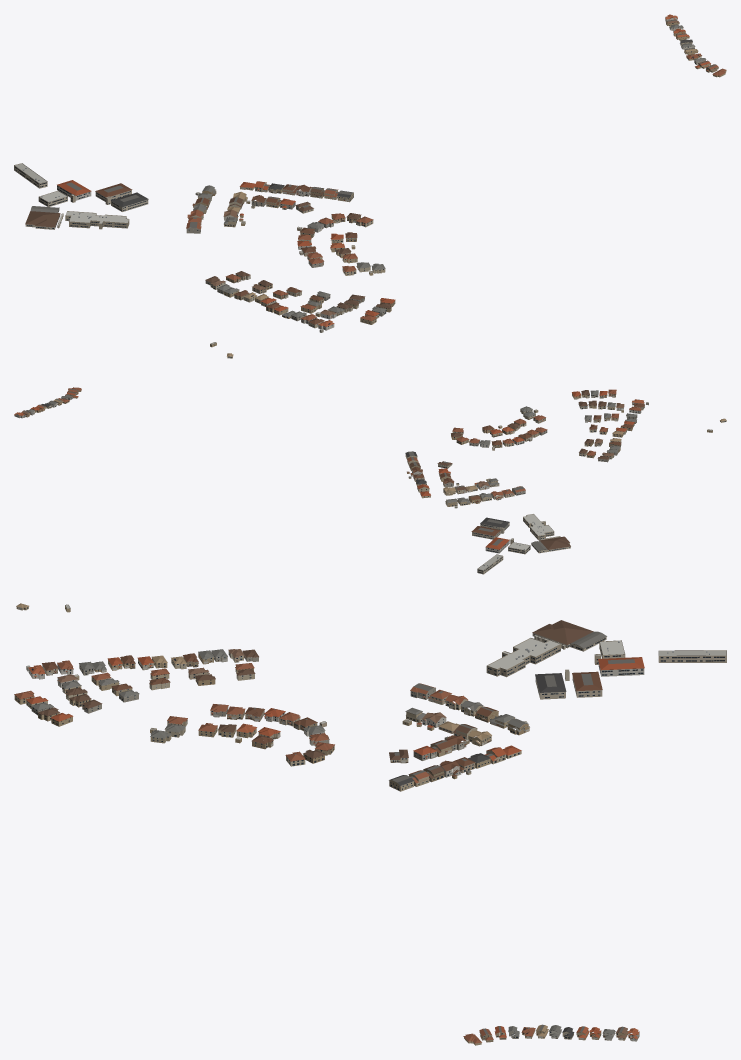
3 renders of one model, top to bottom at view 1: azimuth 30°, elevation 25°; view 2: azimuth 150°, elevation 25°; view 3: azimuth 270°, elevation 25°, orthographic. The views are drawn at different scales.
Parts seen in each view (by area): view 1: buildings_r6_c5_lod0; view 2: buildings_r6_c5_lod0; view 3: buildings_r6_c5_lod0.
Part boxes in pixels (x1,y1,x2,y2): buildings_r6_c5_lod0: [14, 14, 726, 358]; buildings_r6_c5_lod0: [14, 387, 726, 574]; buildings_r6_c5_lod0: [14, 603, 726, 1045].
Bounding box in the file's own units: 1137 × 44.19 × 763.
